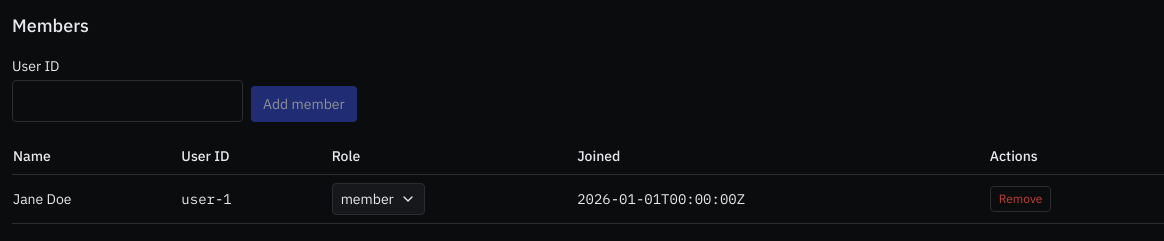
it: MembersPage › removing a member removes their row from the list
Expected: the text "Jane Doe" is shown, [12,174,180,224]
Step 1. Click the button "Remove" → (1020,199), box [990,186,1051,212]
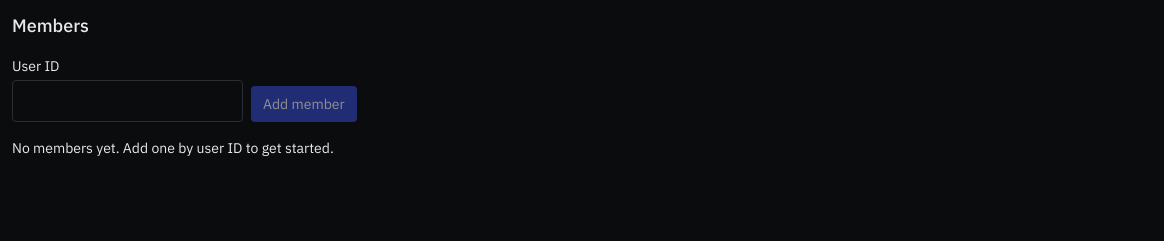
Result: the text "No members yet. Add one by user ID to get started." is shown at [12,139,334,157]
